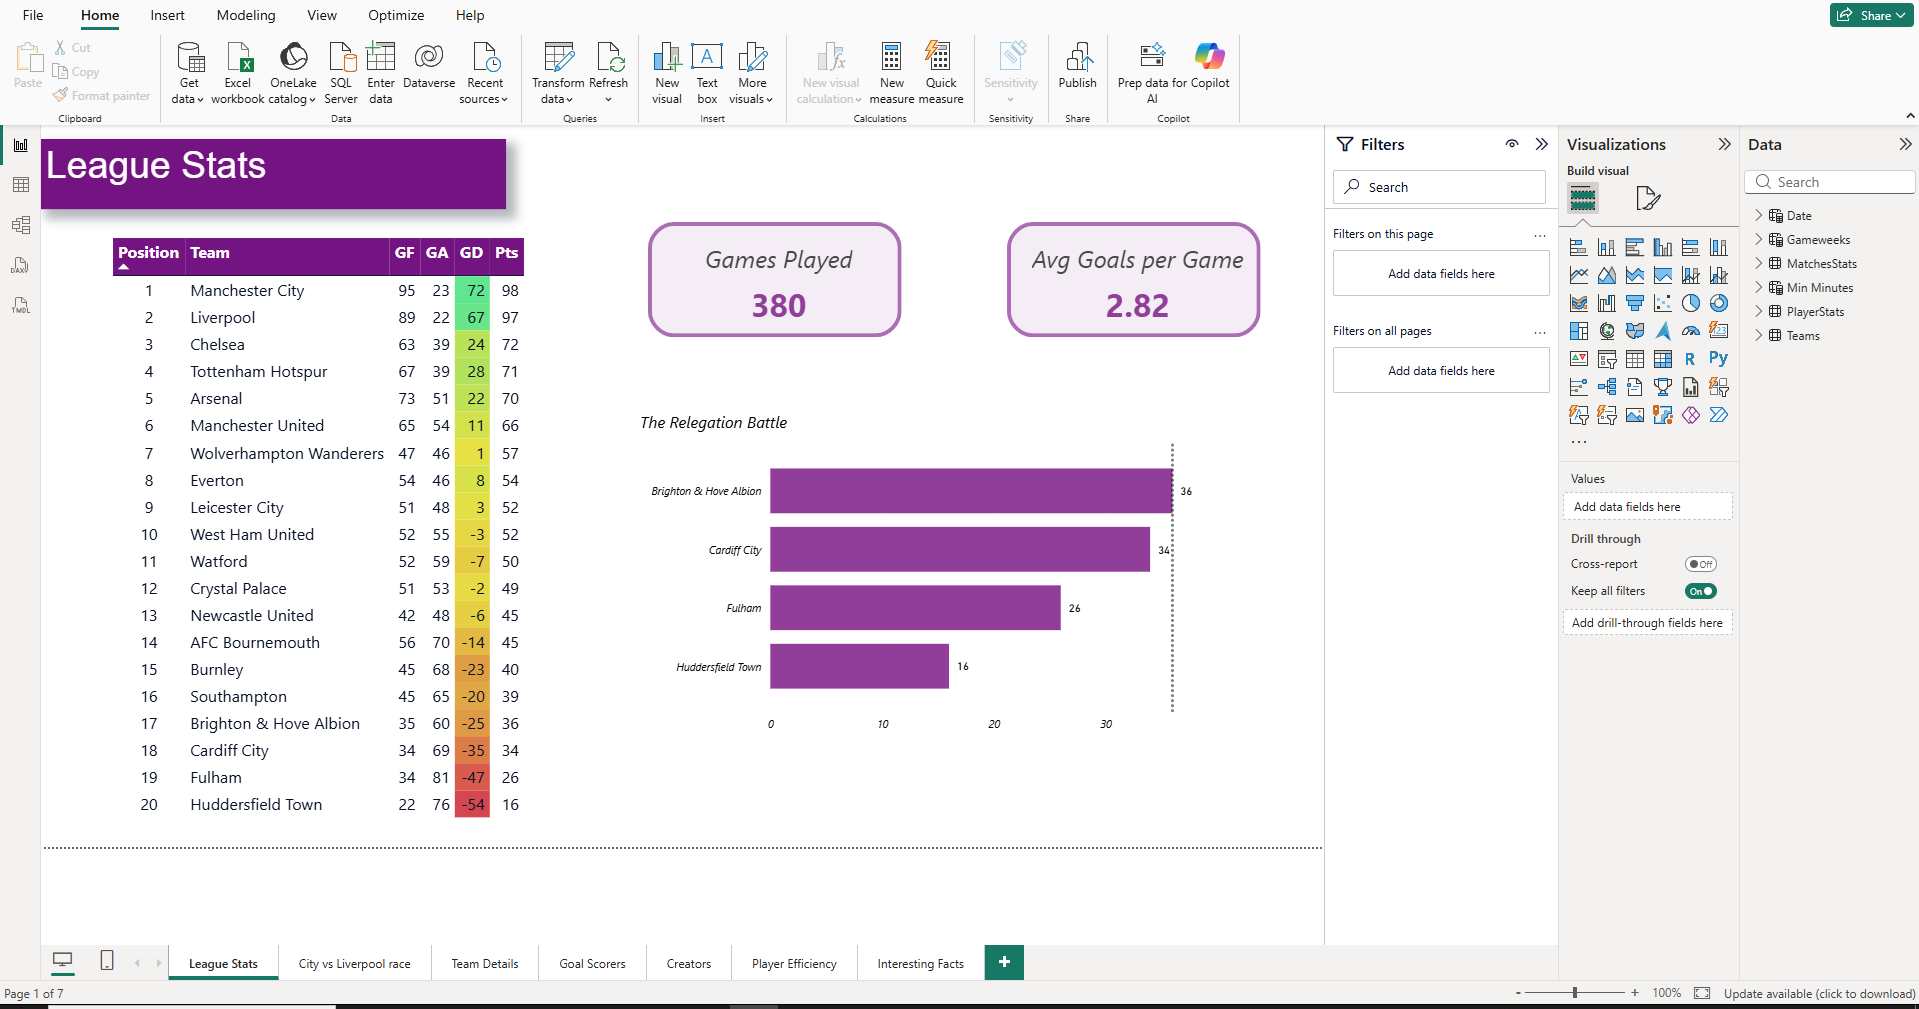

The dashboard page shown, as its layout file describes it:
{"tool":"powerbi","page":{"name":"League Stats","canvas":[1280,720],"ordinal":0},"visuals":[{"type":"tableEx","fields":{"Values":["MatchesStats.Position","Teams.common_name","MatchesStats.GF","MatchesStats.GA","MatchesStats.GD","MatchesStats.Total Points"]},"box":[65.8,107.7,436,600.6],"z":0},{"type":"cardVisual","fields":{"Data":["MatchesStats.Total Matches"]},"box":[600.6,91.8,263.4,125.7],"z":1000},{"type":"cardVisual","fields":{"Data":["MatchesStats.Avg Goals per Game"]},"box":[958.8,91.8,263.4,125.7],"z":2000},{"type":"clusteredBarChart","title":"The Relegation Battle ","fields":{"Category":["Teams.common_name"],"Y":["MatchesStats.Total Points"]},"box":[592.6,285.3,569.7,330.2],"z":3000},{"type":"textbox","box":[0,14,463.9,69.8],"z":4000}]}

Visuals, with their boxes on the page's 1280x720 design canvas (x1, y1, x2, y2). These are canvas units, not pixel positions in the 1919x1009 screenshot, which may show the page scaled, cropped or inside an application window:
tableEx - MatchesStats.Position x Teams.common_name: pyautogui.locateOnScreen(66, 108, 502, 708)
cardVisual - MatchesStats.Total Matches: pyautogui.locateOnScreen(601, 92, 864, 218)
cardVisual - MatchesStats.Avg Goals per Game: pyautogui.locateOnScreen(959, 92, 1222, 218)
"The Relegation Battle " clusteredBarChart: pyautogui.locateOnScreen(593, 285, 1162, 616)
textbox: pyautogui.locateOnScreen(0, 14, 464, 84)
